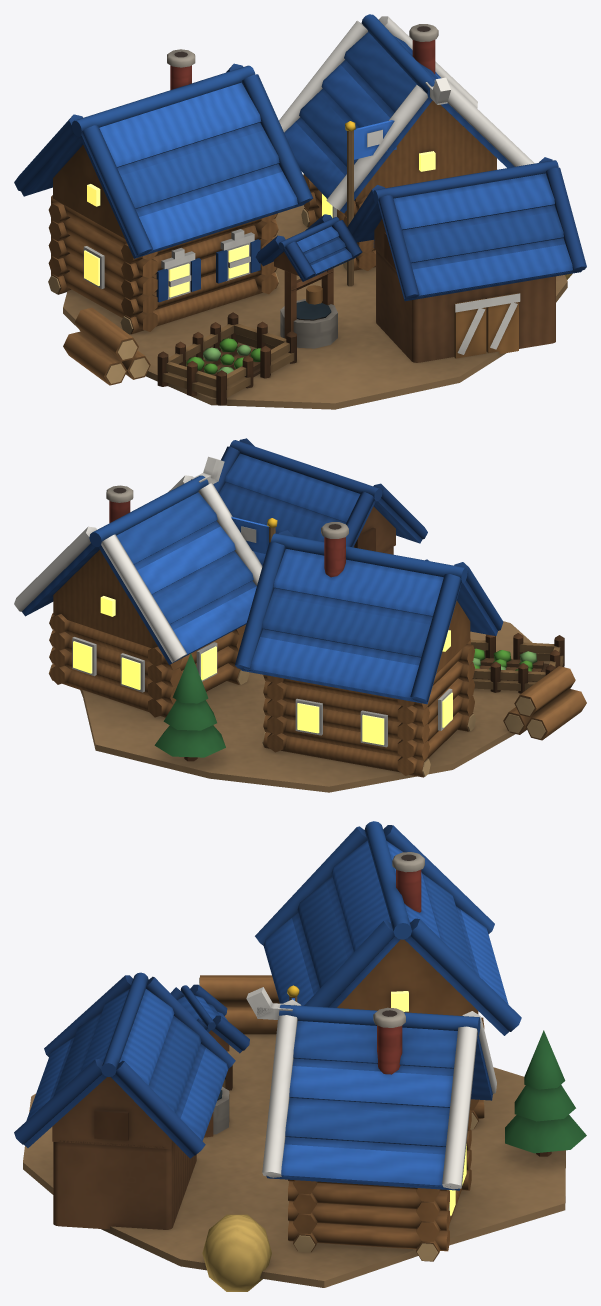
File: city_dl2_blue.glb
3 renders of one model, top to bottom at view 1: azimuth 30°, elevation 25°; view 2: azimuth 150°, elevation 25°; view 3: azimuth 270°, elevation 25°, orthographic. The views are drawn at different scales.
Parts seen in each view (by area): view 1: city_dl2_blue; view 2: city_dl2_blue; view 3: city_dl2_blue.
Boxes of the visible parts, x1,y1,x2,y2 form: city_dl2_blue: [14, 14, 586, 409]; city_dl2_blue: [14, 438, 586, 792]; city_dl2_blue: [14, 821, 586, 1291].
Bounding box in the file's own units: 1.48 × 0.7016 × 1.33.
2 materials, 1 textured.
